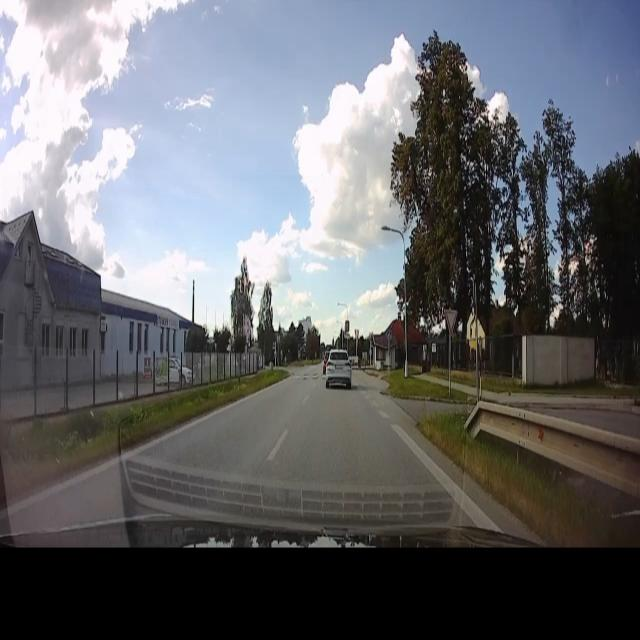Pedestrian crosswalk: (292, 370, 352, 381), (386, 327, 393, 339)
